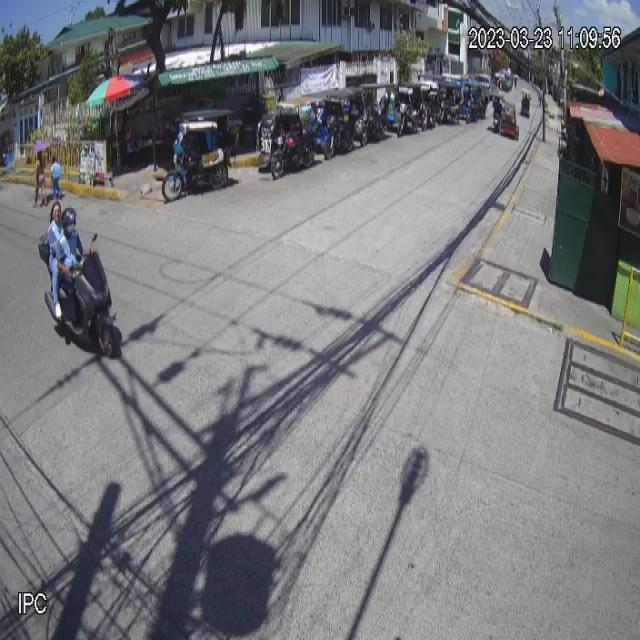Motorcycle: (35, 233, 120, 362)
Tricycle: (161, 105, 240, 201)
